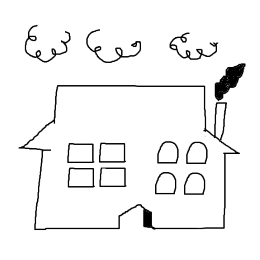clouds: (17, 15, 79, 67), (83, 23, 150, 69), (160, 25, 226, 63)
door: (114, 197, 163, 239)
open_window: (152, 137, 184, 168), (64, 165, 98, 194), (64, 137, 97, 166), (183, 138, 210, 170), (98, 164, 127, 190), (98, 141, 130, 164), (152, 170, 179, 197), (182, 174, 208, 202)
single_line_roof: (23, 83, 238, 142)
smoking_chimney: (207, 57, 252, 139)
wall: (31, 143, 231, 239)
